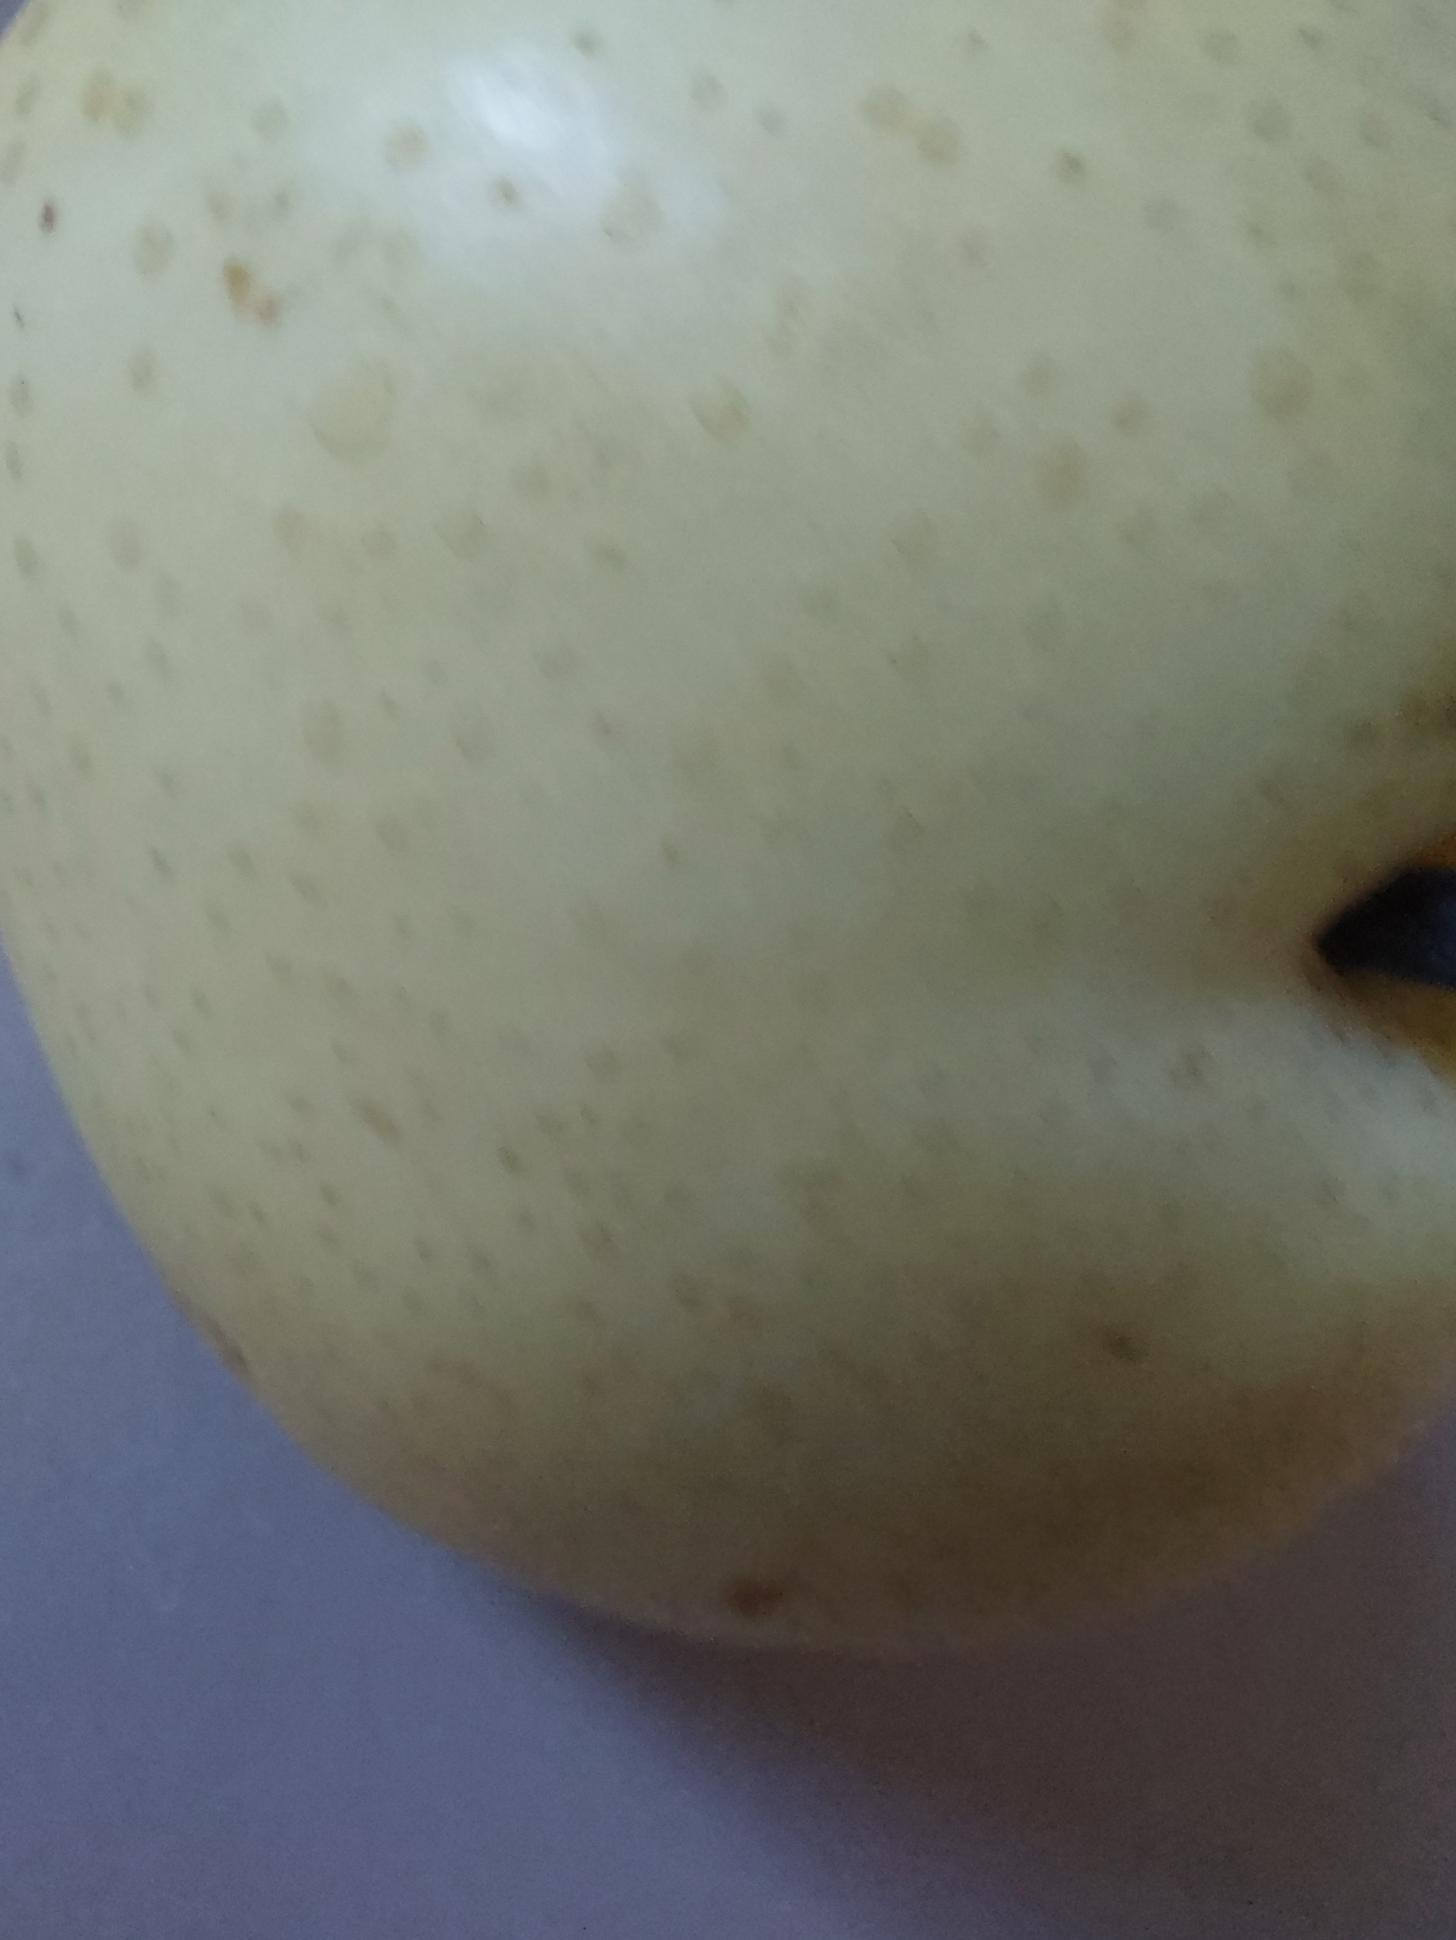Good Pear: (0, 0, 1456, 1676)
